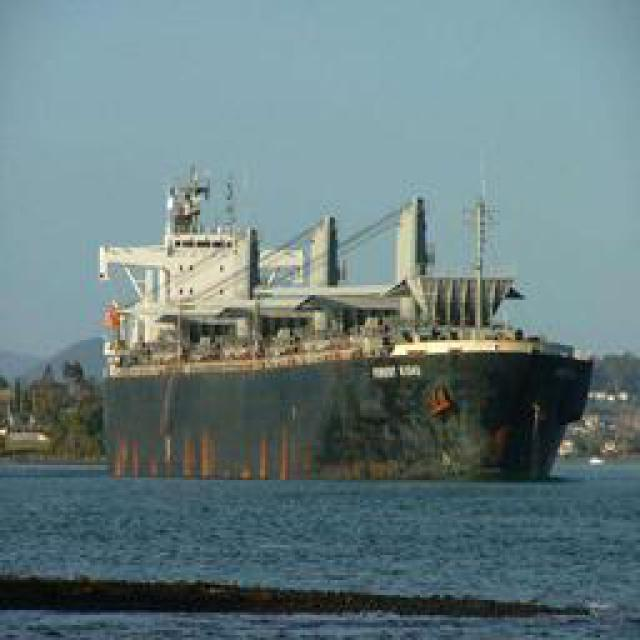Ship: (67, 160, 597, 483)
